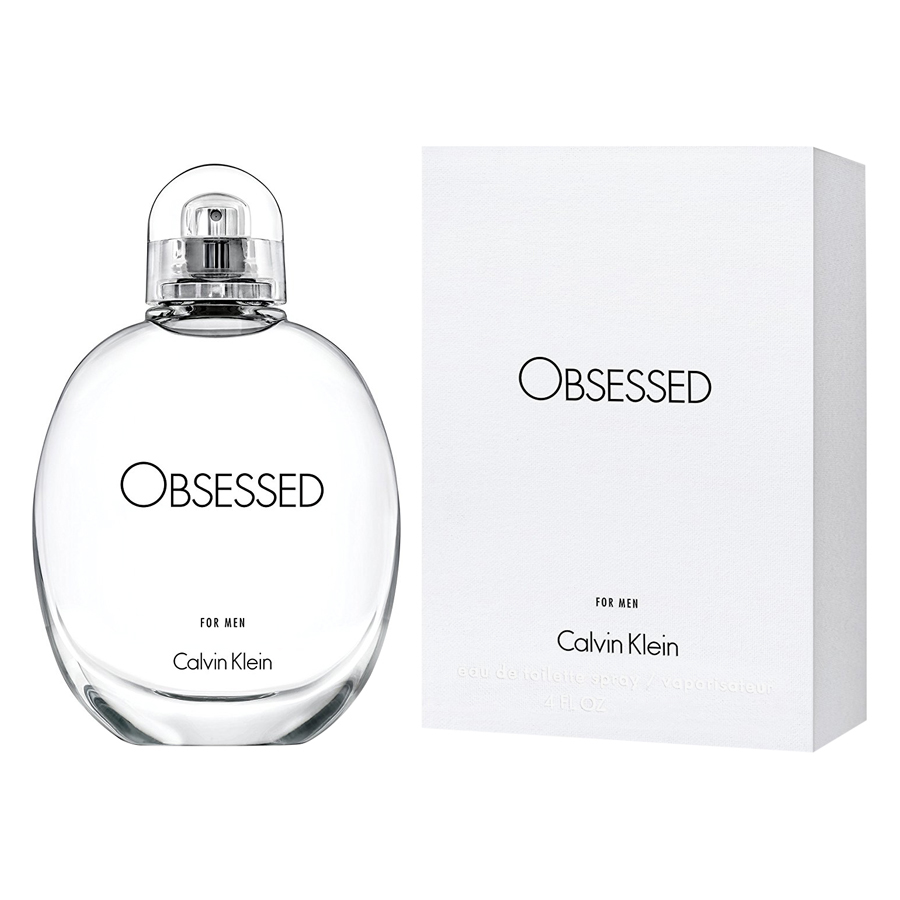Calvin Klein: (542, 615, 694, 666), (160, 644, 292, 682)
